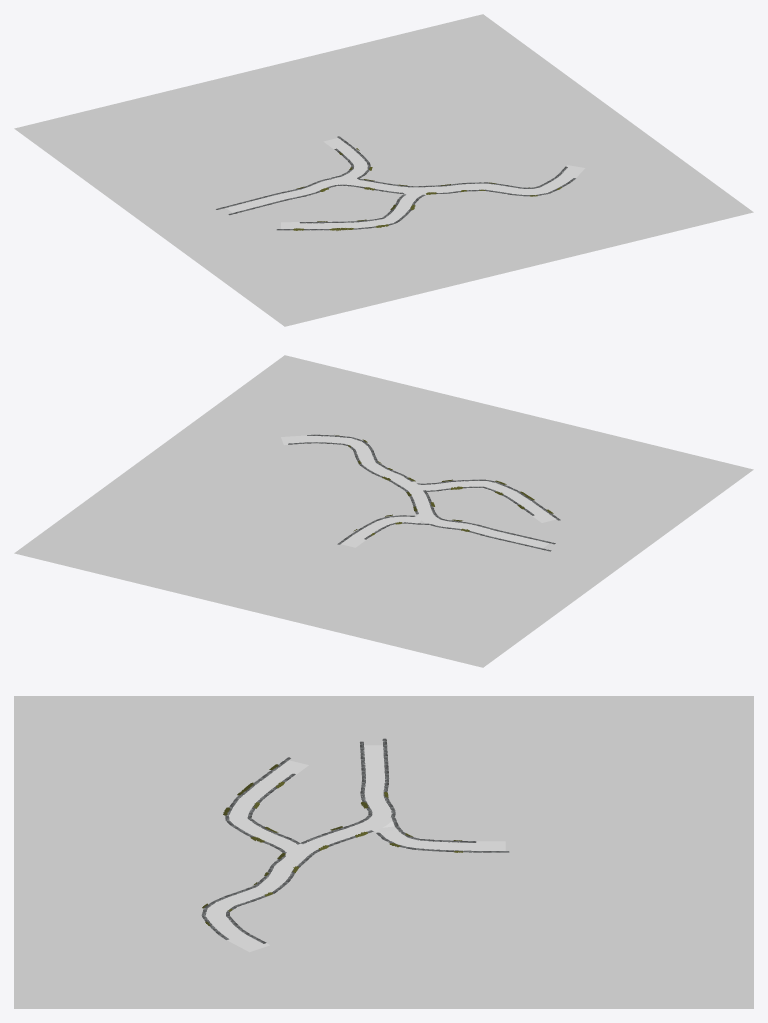
File: Level 6.fbx
3 views of the same model, one above another, from view 1: azimuth 30°, elevation 25°; view 2: azimuth 150°, elevation 25°; view 3: azimuth 270°, elevation 25° (orthographic). The views are drawn at different scales.
Visible parts, largest first — view 1: Ground Test 3.004, Dirt_Ground 1.010, Dirt_Ground 1.012, Dirt_Ground 1.011, Stone 1.021, Stone 1.020; view 2: Ground Test 3.004, Dirt_Ground 1.010, Dirt_Ground 1.012, Dirt_Ground 1.011, Stone 1.020, Stone 1.021; view 3: Ground Test 3.004, Dirt_Ground 1.010, Dirt_Ground 1.012, Dirt_Ground 1.011, Stone 1.020, Stone 1.021.
Boxes of the visible parts, box(x1,y1,x2,y2) form: Ground Test 3.004: box(14, 14, 753, 326); Dirt_Ground 1.010: box(226, 165, 584, 213); Dirt_Ground 1.012: box(281, 194, 425, 230); Dirt_Ground 1.011: box(323, 138, 368, 178); Stone 1.021: box(216, 166, 567, 209); Stone 1.020: box(228, 178, 575, 215); Ground Test 3.004: box(14, 355, 753, 667); Dirt_Ground 1.010: box(281, 435, 548, 548); Dirt_Ground 1.012: box(419, 480, 556, 522); Dirt_Ground 1.011: box(341, 516, 425, 547); Stone 1.020: box(307, 434, 555, 544); Stone 1.021: box(288, 442, 551, 551); Ground Test 3.004: box(14, 696, 753, 1008); Dirt_Ground 1.010: box(204, 745, 392, 952); Dirt_Ground 1.012: box(227, 760, 308, 852); Dirt_Ground 1.011: box(375, 821, 505, 852); Stone 1.020: box(201, 741, 372, 939); Stone 1.021: box(226, 738, 395, 943).
Bounding box in the file's own units: 15000 × 77.53 × 15000.
